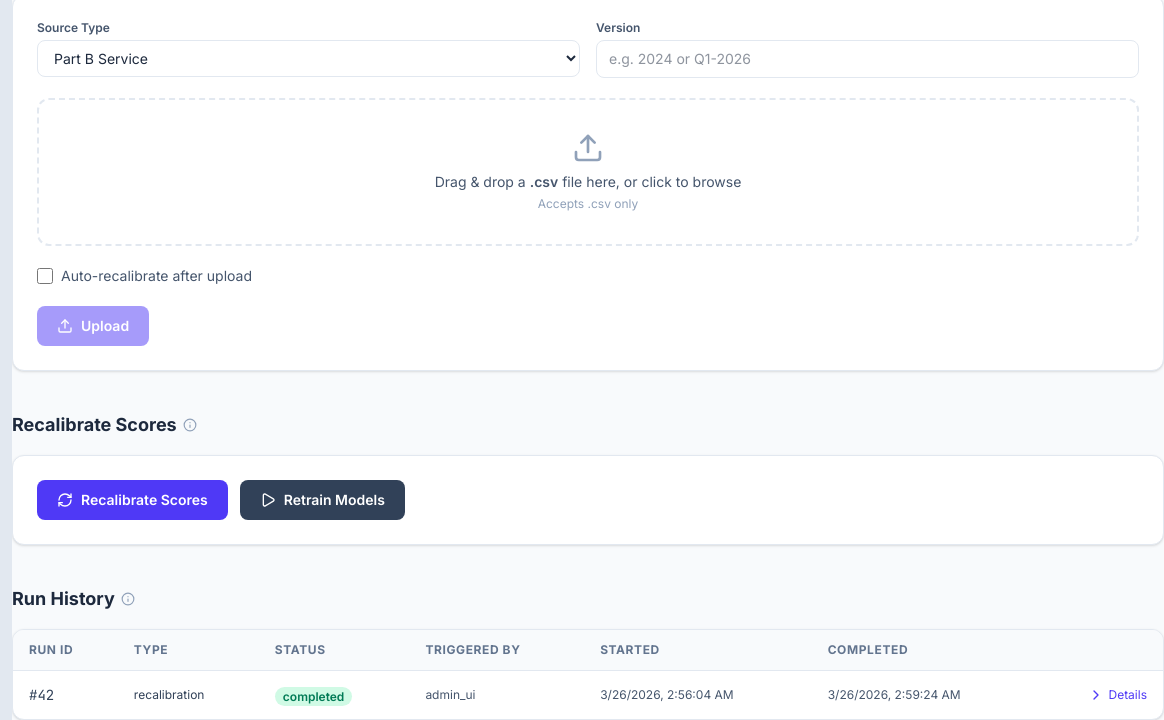
Test: DataManagement › expands stage details when Details button is clicked
(page scrolled)
Click the button "Details".
click(1118, 695)  # box [1088,687,1147,703]
(page scrolled)
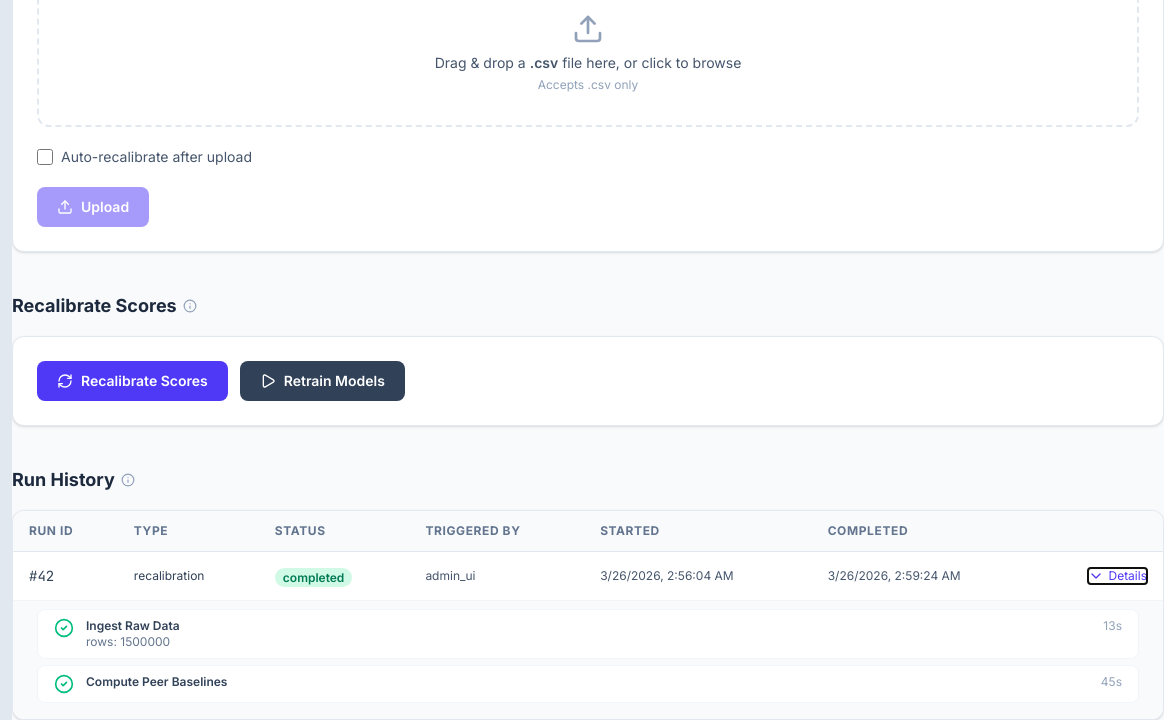
Expected: the text "Ingest Raw Data" is shown, [86,618,180,633]
Expected: the text "Compute Peer Baselines" is shown, [86,674,228,689]
